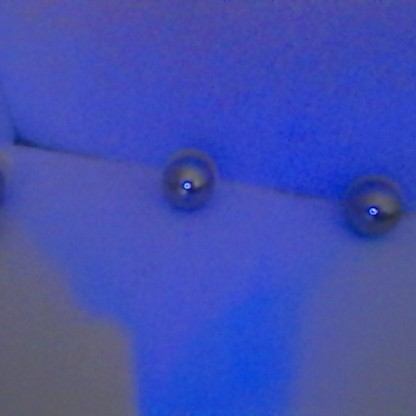ironball: (154, 151, 228, 212), (341, 172, 406, 238)
